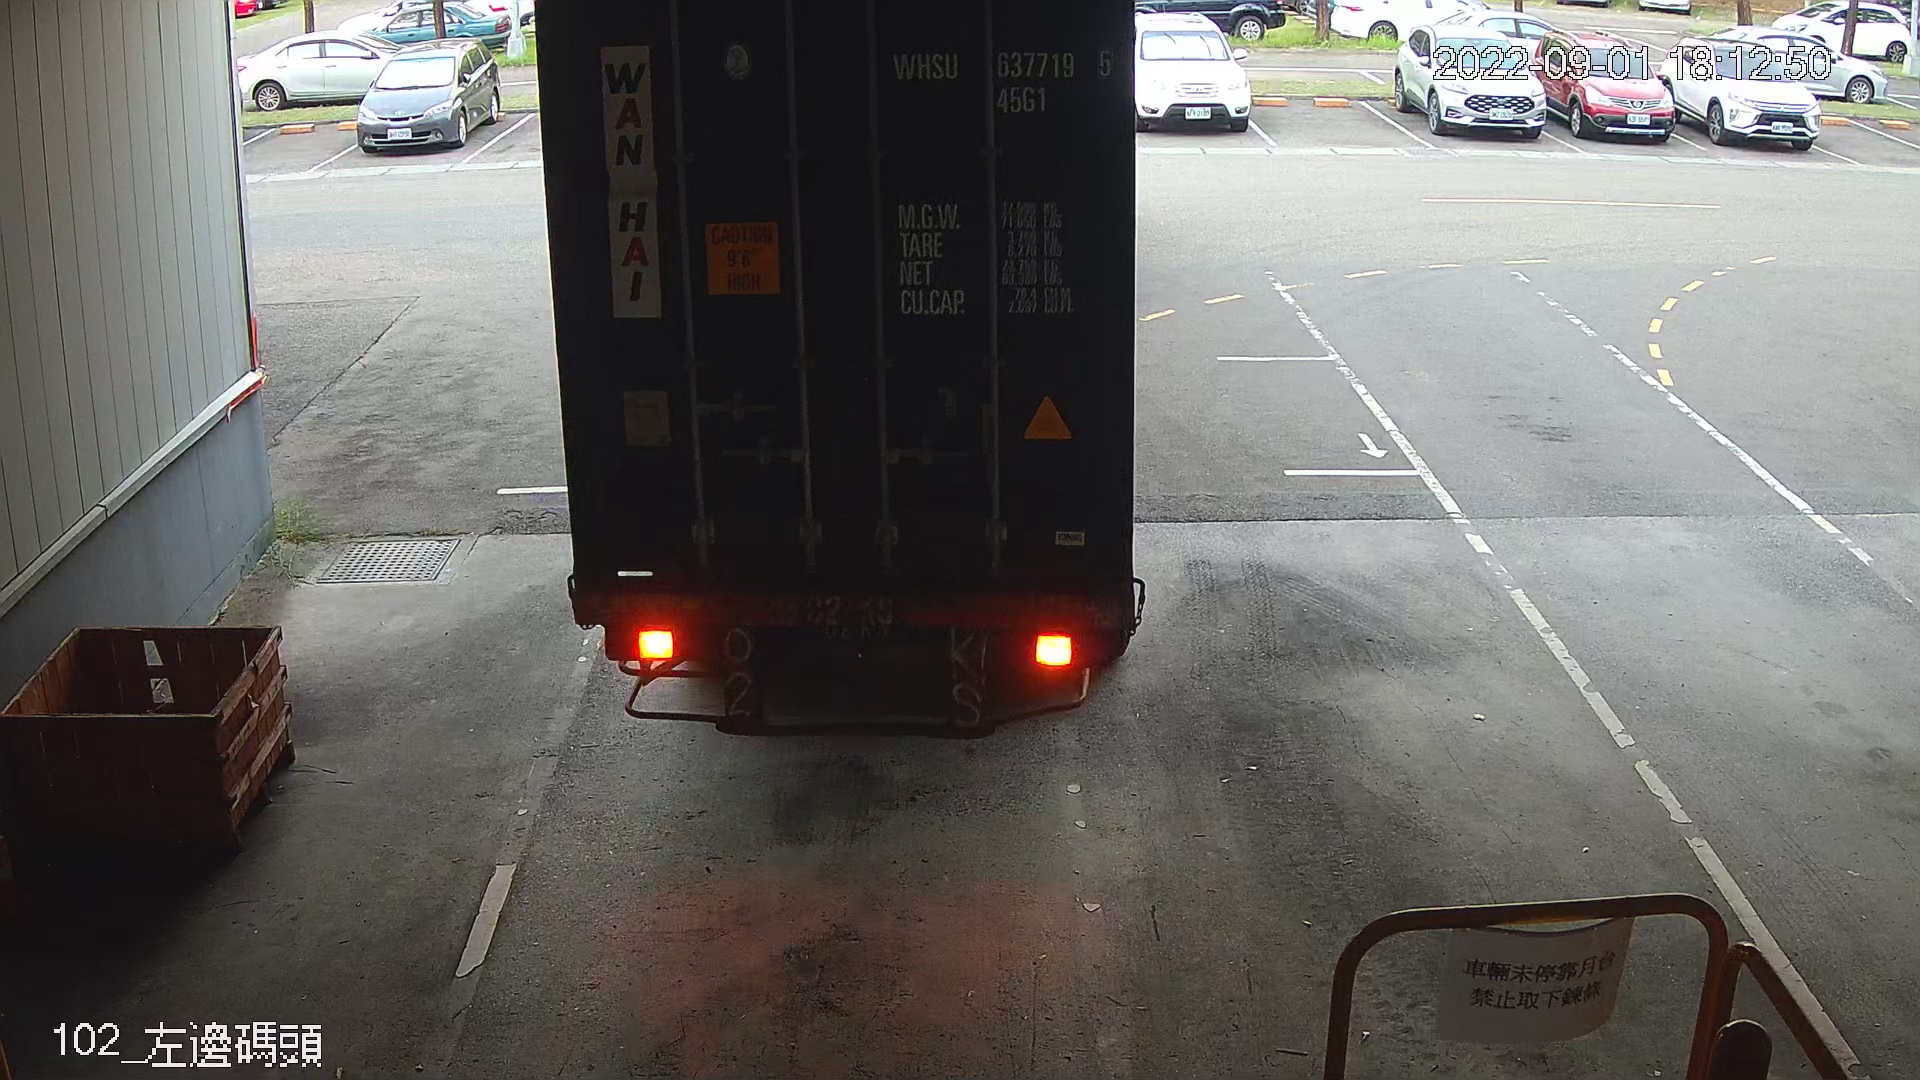container: (880, 36, 1125, 123)
